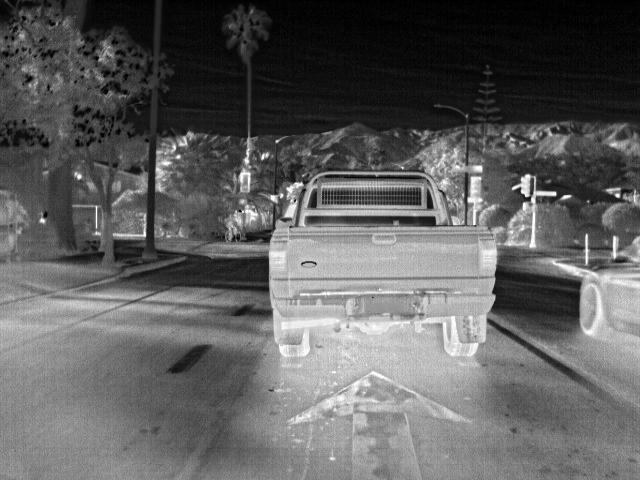car: (269, 168, 500, 359), (574, 261, 640, 342)
person: (224, 213, 240, 228)
